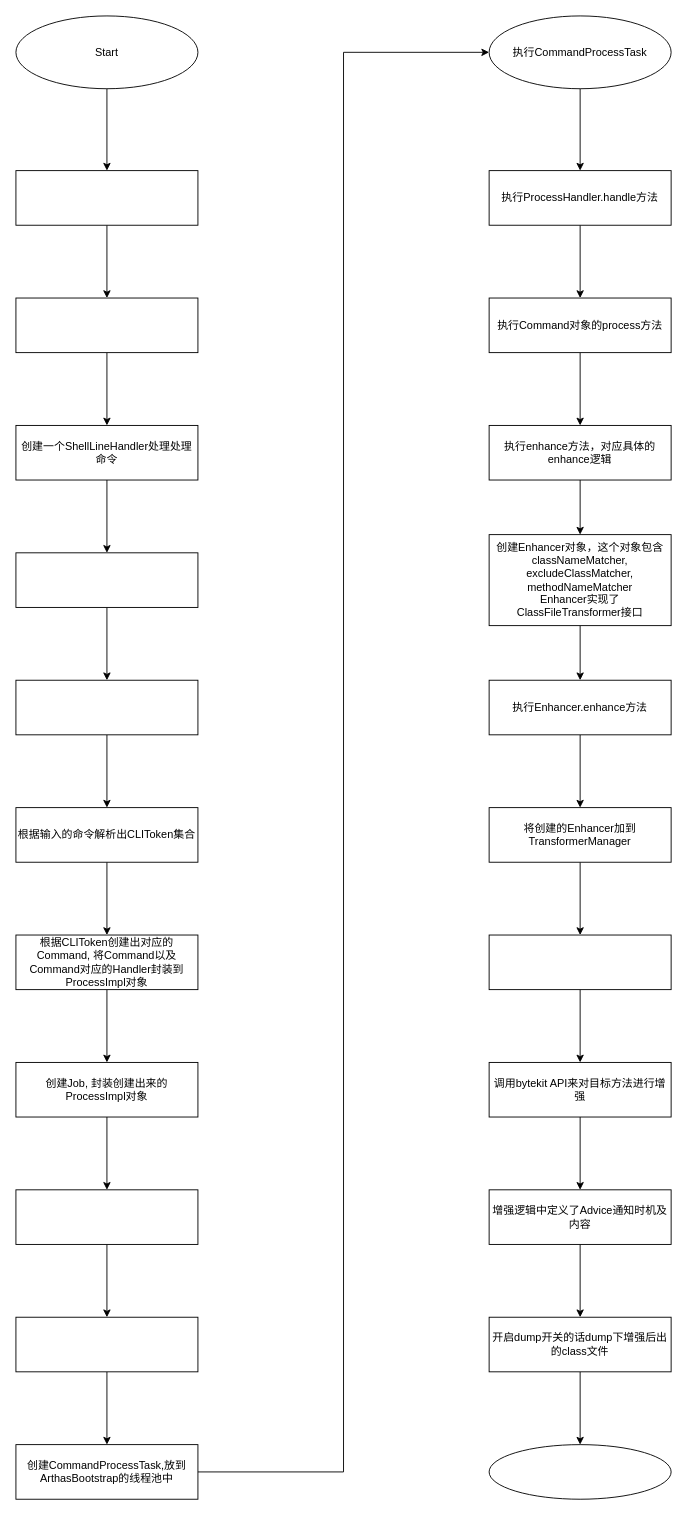
This 687x1515 diagram has some shape labels left out. The shapes that lost their labels are listed below. From the top down, each one's centre as x and y in pixels, then its label:
pixel 106 197: TermServerTermHandler处理用户的输入
pixel 106 325: 创建ShellImpl对象,包含commandManager, jobController
pixel 106 579: readline, 读取输入的命令直至可以进行处理
pixel 106 707: 执行ShellLineHandler.handle方法
pixel 579 962: Instrumentation接口调用transform
pixel 106 1216: 创建Job对象的TimeoutTask, 放进ArthasBootstrap的线程池中
pixel 106 1344: 创建CommandProcess
pixel 579 1471: End
